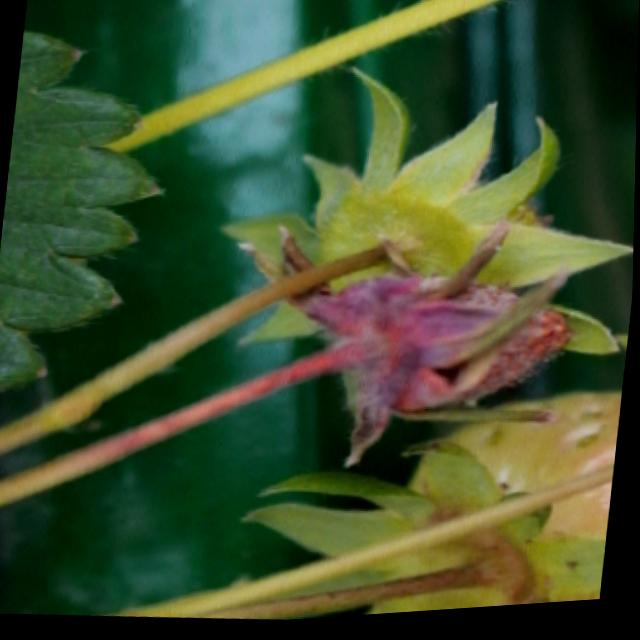Gray Mold: (306, 231, 577, 474)
